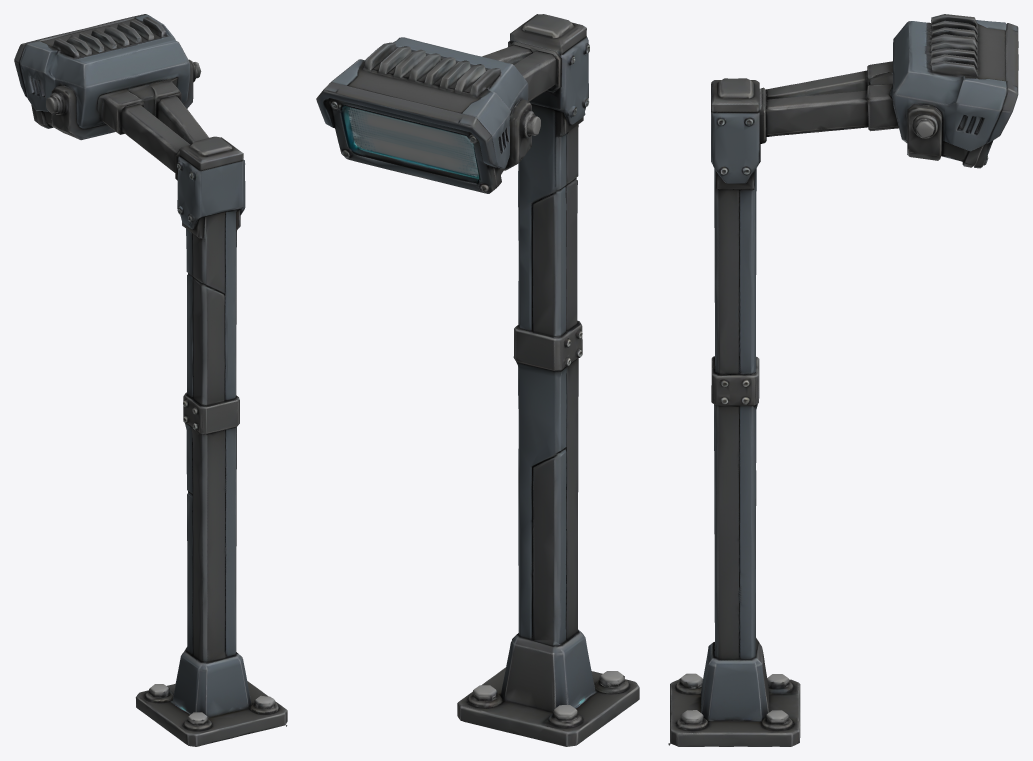
File: prop_lamp.glb
The picture shows the model from 3 angles, left to right: view 1: azimuth 30°, elevation 25°; view 2: azimuth 150°, elevation 25°; view 3: azimuth 270°, elevation 25°; orthographic projection. The views are drawn at different scales.
Parts seen in each view (by area): view 1: tripo_node_4bd3bdc6-c818-4622-b3a3-3fbcdf1295ce; view 2: tripo_node_4bd3bdc6-c818-4622-b3a3-3fbcdf1295ce; view 3: tripo_node_4bd3bdc6-c818-4622-b3a3-3fbcdf1295ce.
Boxes of the visible parts, x1,y1,x2,y2 form: tripo_node_4bd3bdc6-c818-4622-b3a3-3fbcdf1295ce: (14, 14, 287, 746); tripo_node_4bd3bdc6-c818-4622-b3a3-3fbcdf1295ce: (316, 14, 639, 746); tripo_node_4bd3bdc6-c818-4622-b3a3-3fbcdf1295ce: (668, 14, 1018, 746).
Bounding box in the file's own units: 0.2507 × 0.9807 × 0.4571.
Materials: 1 (1 with a texture image).
